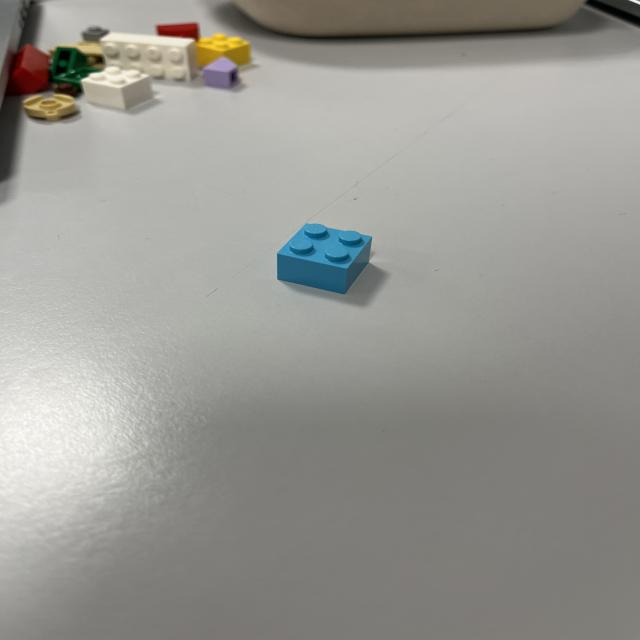C2x2x1: (275, 222, 373, 294)
